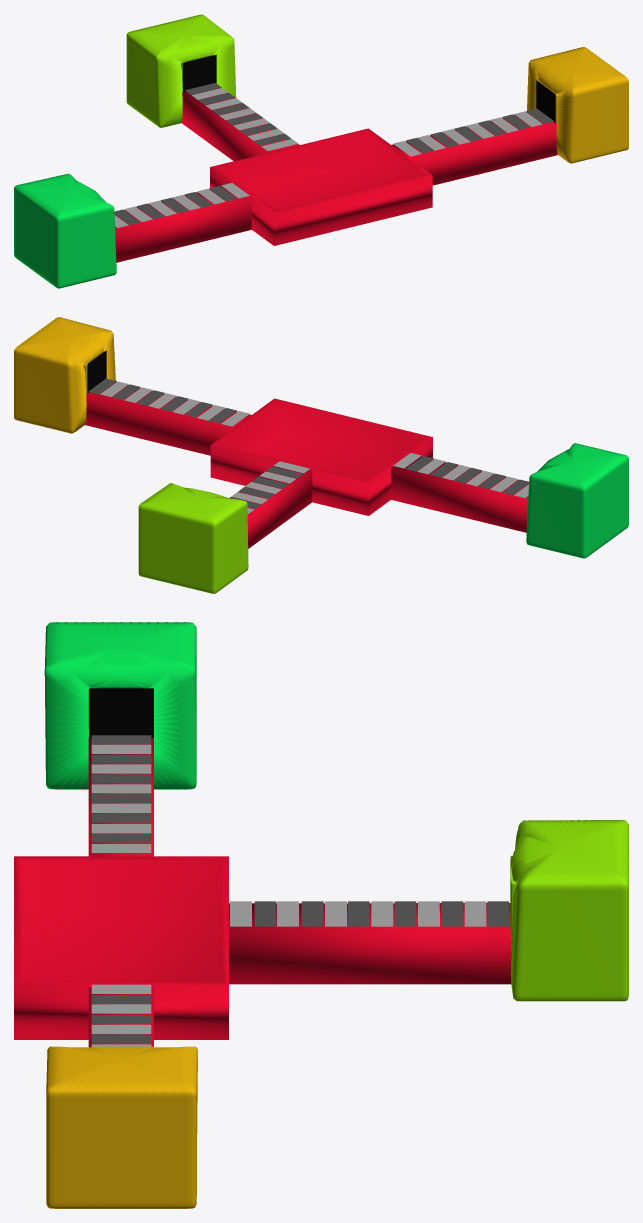
File: mitoFactory.fbx
3 renders of one model, top to bottom at view 1: azimuth 30°, elevation 25°; view 2: azimuth 150°, elevation 25°; view 3: azimuth 270°, elevation 25°, orthographic. The views are drawn at different scales.
Parts seen in each view (by area): view 1: phosphateFactory, Center, ADPFactory, ATPFactory; view 2: phosphateFactory, ADPFactory, Center, ATPFactory; view 3: ATPFactory, Center, phosphateFactory, ADPFactory.
Part boxes in pixels (left/top/right/bottom): phosphateFactory: left=14, top=173, right=251, bottom=288; Center: left=210, top=128, right=432, bottom=245; ADPFactory: left=391, top=47, right=628, bottom=185; ATPFactory: left=126, top=14, right=299, bottom=160; phosphateFactory: left=391, top=443, right=628, bottom=558; ADPFactory: left=14, top=317, right=251, bottom=455; Center: left=210, top=398, right=432, bottom=515; ATPFactory: left=138, top=461, right=312, bottom=593; ATPFactory: left=229, top=820, right=628, bottom=1001; Center: left=14, top=856, right=228, bottom=1039; phosphateFactory: left=44, top=622, right=196, bottom=856; ADPFactory: left=46, top=984, right=197, bottom=1208.
Bounding box in the file's own units: 4827 × 596 × 2677.
